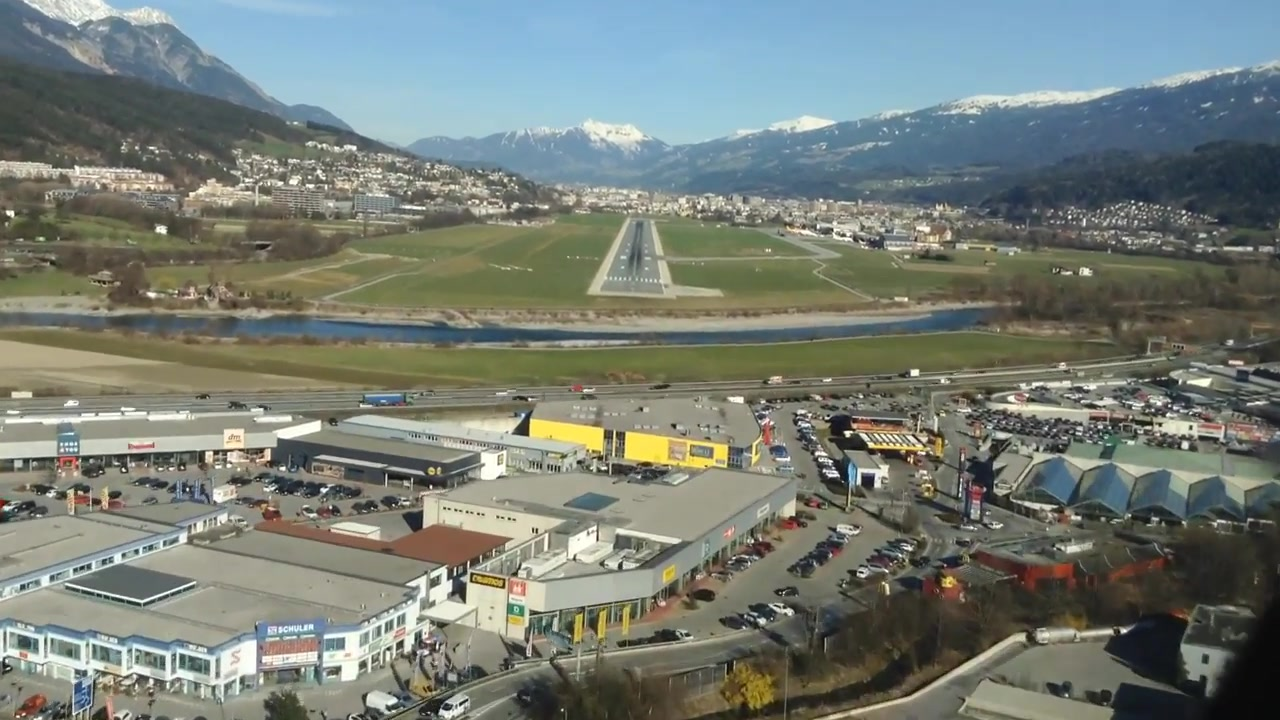entrance: (605, 276, 662, 283)
runway: (595, 221, 666, 293)
